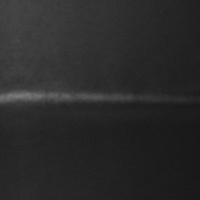scratches: (19, 80, 180, 111)
